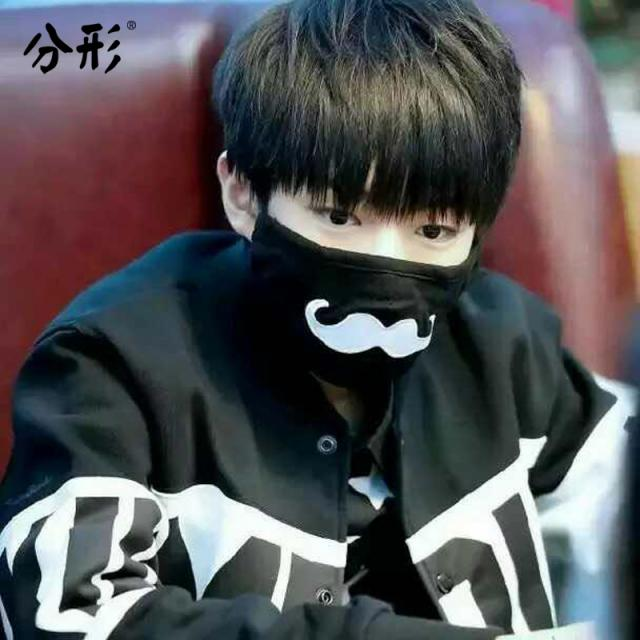mask: (284, 132, 479, 360)
